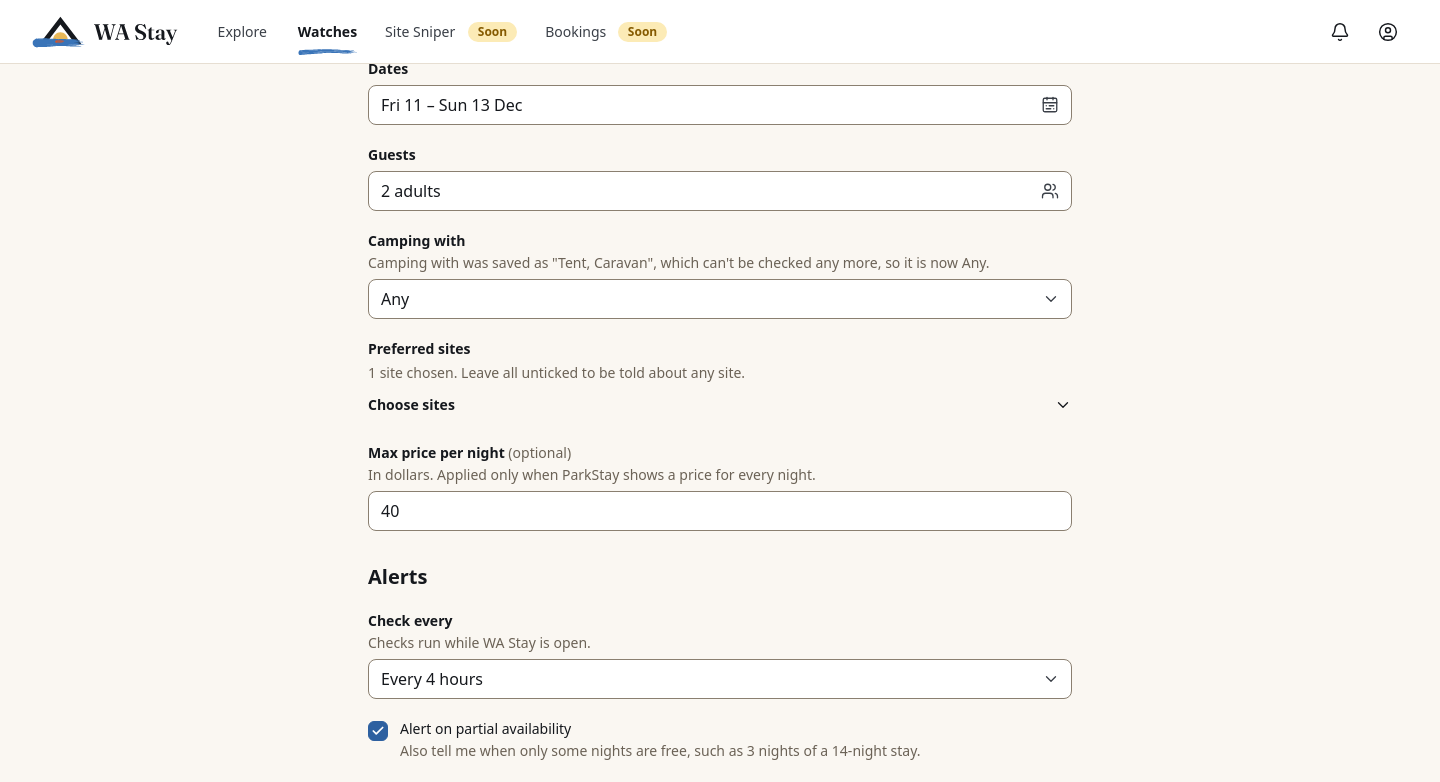
Test: EditWatchPage › shows the provider read-only and pre-fills every field (legacy gear CSV, unit names)
The image size is (1440, 782).
(page scrolled)
Expected: the button named "Dates Fri 11 – Sun 13 Dec" is shown, [368,85,1072,125]
Expected: the button named "Guests 2 adults" is shown, [368,171,1072,211]
Step 1. Click the button "Choose sites" → (411, 404), box [368,387,1072,423]
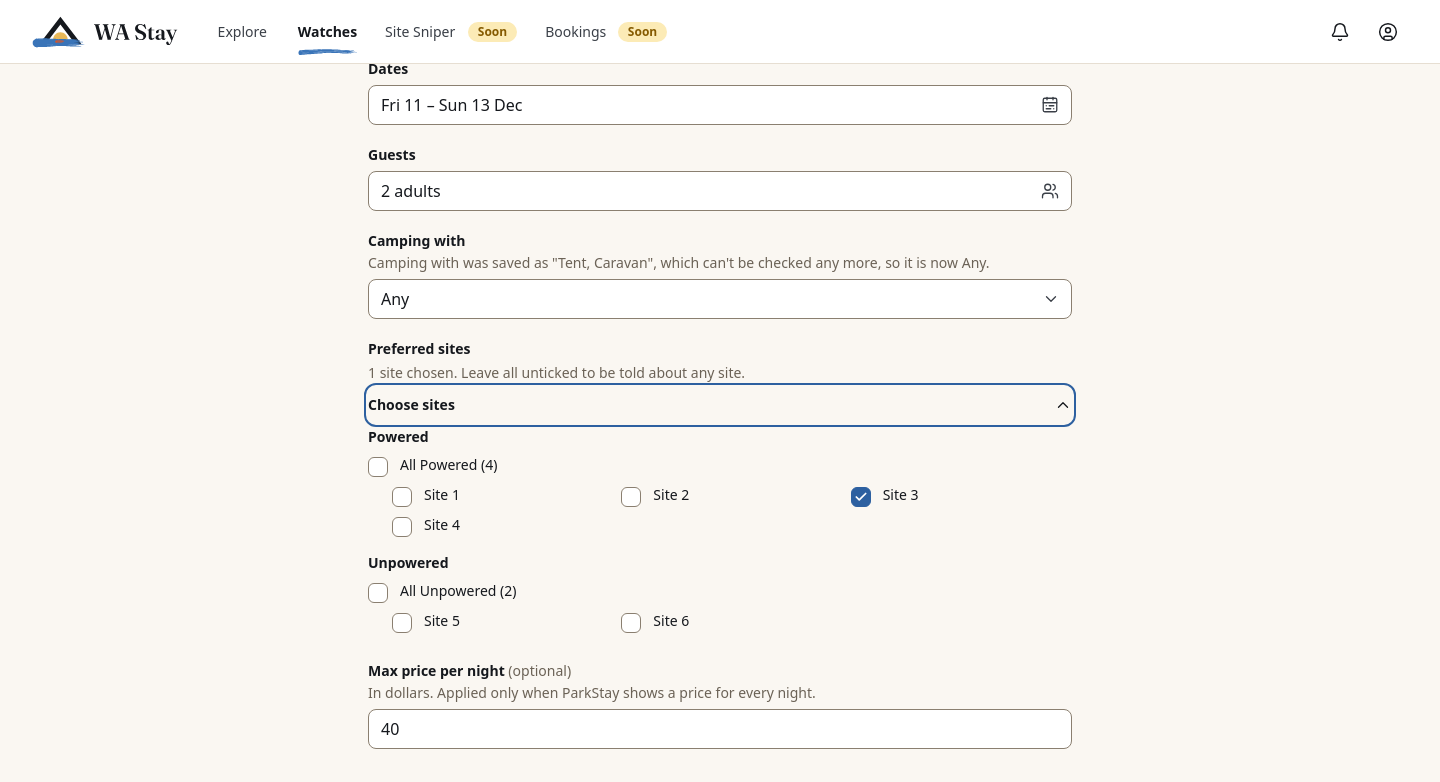
Expected: the checkbox labelled "Site 3" is checked, [851,487,871,507]
